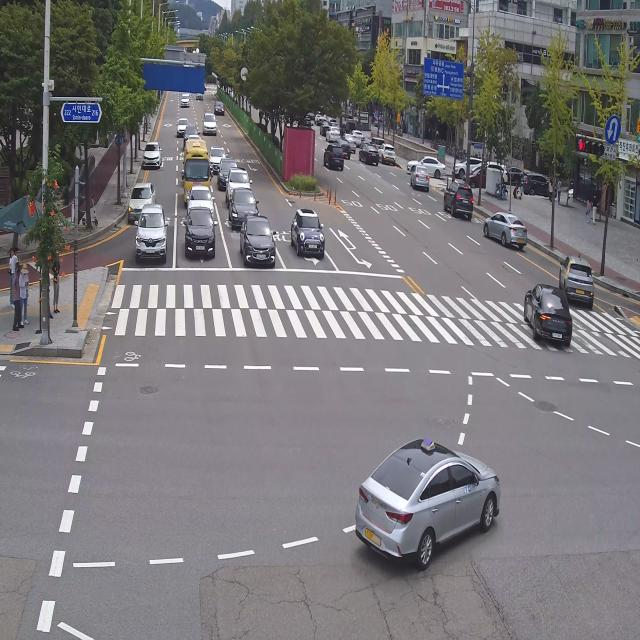Bus: (182, 141, 214, 203)
Car: (335, 409, 517, 574), (518, 276, 576, 360), (132, 197, 173, 271), (285, 200, 329, 264), (239, 210, 281, 274), (555, 251, 596, 315), (482, 202, 529, 256), (183, 205, 221, 266), (441, 179, 477, 225), (225, 185, 261, 228), (126, 179, 160, 217), (520, 166, 556, 199), (320, 142, 350, 180), (463, 160, 501, 190), (225, 165, 253, 204), (404, 150, 444, 177), (449, 150, 482, 180), (141, 135, 167, 172), (356, 138, 382, 174), (474, 158, 509, 183), (189, 185, 215, 218), (410, 161, 432, 196), (199, 108, 222, 140), (377, 140, 399, 168), (206, 143, 227, 170), (220, 156, 236, 186), (334, 138, 352, 163), (505, 160, 524, 183), (175, 115, 190, 137), (183, 123, 198, 141), (326, 124, 341, 142), (342, 132, 355, 152), (213, 97, 225, 118), (342, 119, 356, 137), (371, 134, 385, 152), (180, 89, 190, 112), (352, 129, 363, 146), (194, 89, 204, 105), (186, 133, 201, 143), (361, 133, 372, 145)
